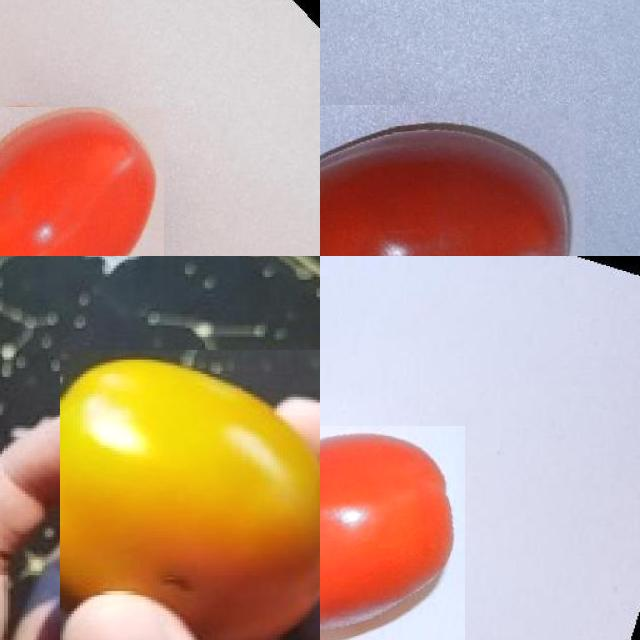Fresh Tomato: (320, 105, 585, 256), (320, 426, 465, 640), (0, 107, 163, 256)
Rotten Tomato: (60, 350, 320, 640)
